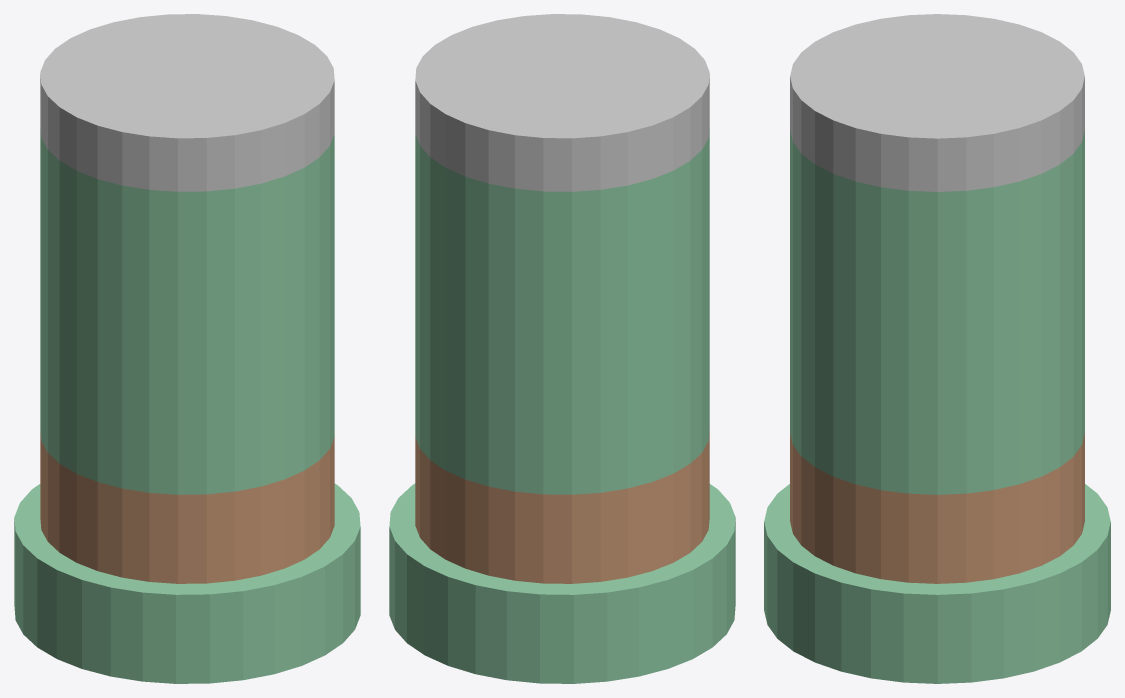
Rendered from testBrik.fbx.
3 views of the same model, side by side, from view 1: azimuth 30°, elevation 25°; view 2: azimuth 150°, elevation 25°; view 3: azimuth 270°, elevation 25° (orthographic).
Parts seen in each view (by area): view 1: Cylinder; view 2: Cylinder; view 3: Cylinder.
Boxes of the visible parts, <box> form: Cylinder: <box>14,14,360,683</box>; Cylinder: <box>389,14,735,683</box>; Cylinder: <box>764,14,1110,683</box>.
Size of the model in its own units: 118 by 200 by 118.
